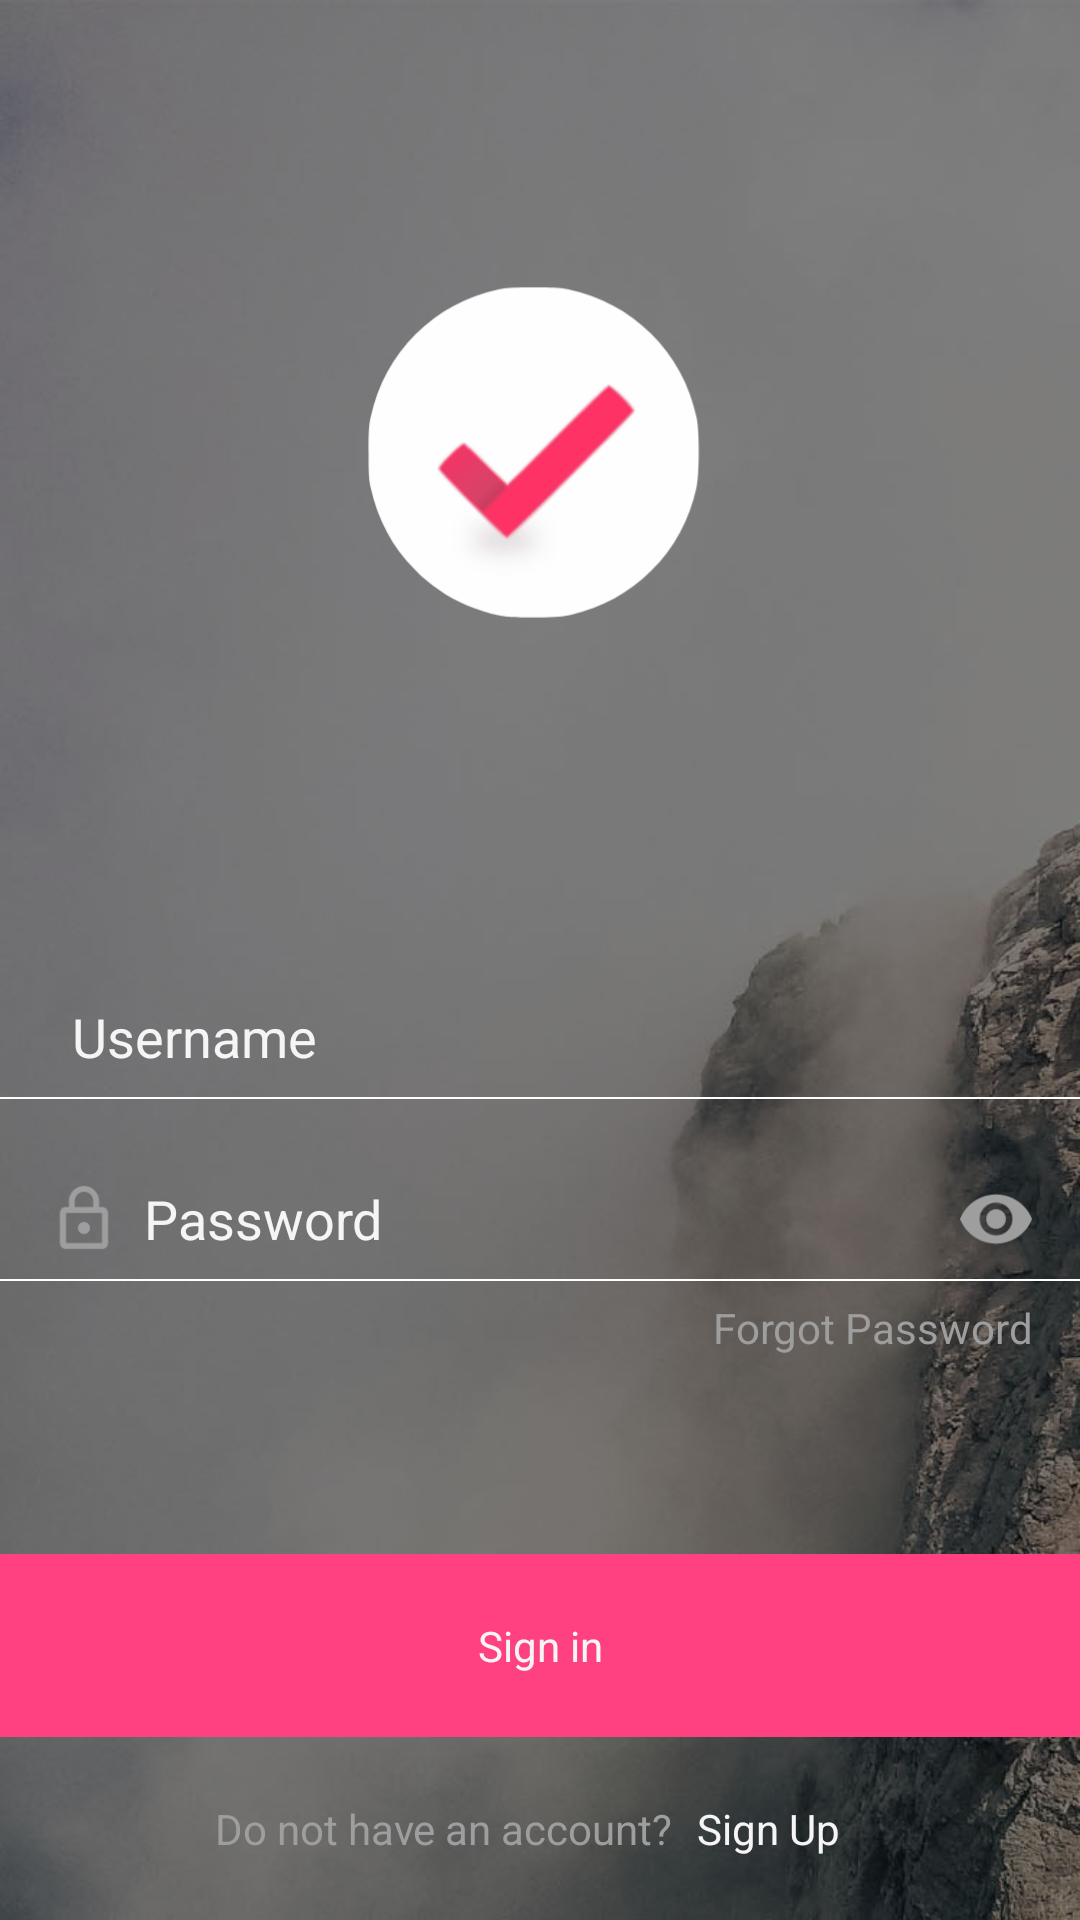

Screen size 1080 × 1920. Icon name, then its box in pixels as (x1, y1, x2, y2):
lock: (60, 1186, 108, 1249)
